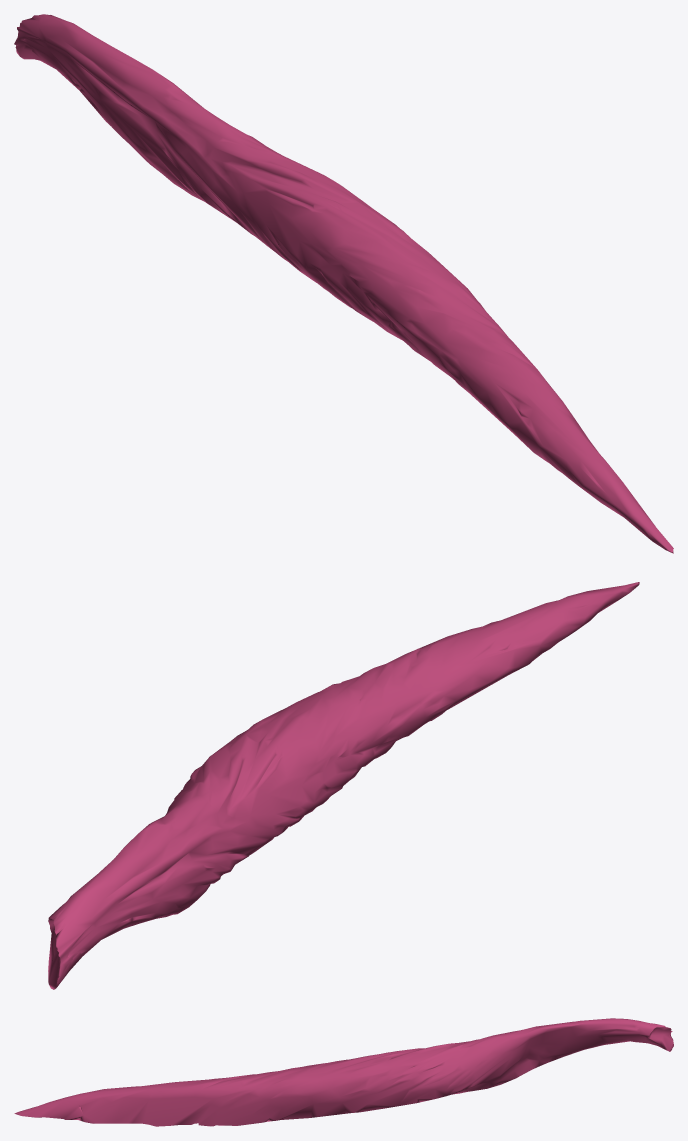
The picture shows the model from 3 angles, top to bottom: view 1: azimuth 30°, elevation 25°; view 2: azimuth 150°, elevation 25°; view 3: azimuth 270°, elevation 25°; orthographic projection. The views are drawn at different scales.
Parts seen in each view (by area): view 1: 右侧股二头肌短头; view 2: 右侧股二头肌短头; view 3: 右侧股二头肌短头.
Boxes of the visible parts, x1=… form: 右侧股二头肌短头: x1=14, y1=14, x2=673, y2=553; 右侧股二头肌短头: x1=48, y1=582, x2=639, y2=989; 右侧股二头肌短头: x1=14, y1=1018, x2=673, y2=1126.
Size of the model in its own units: 0.0543 by 0.0617 by 0.444.
